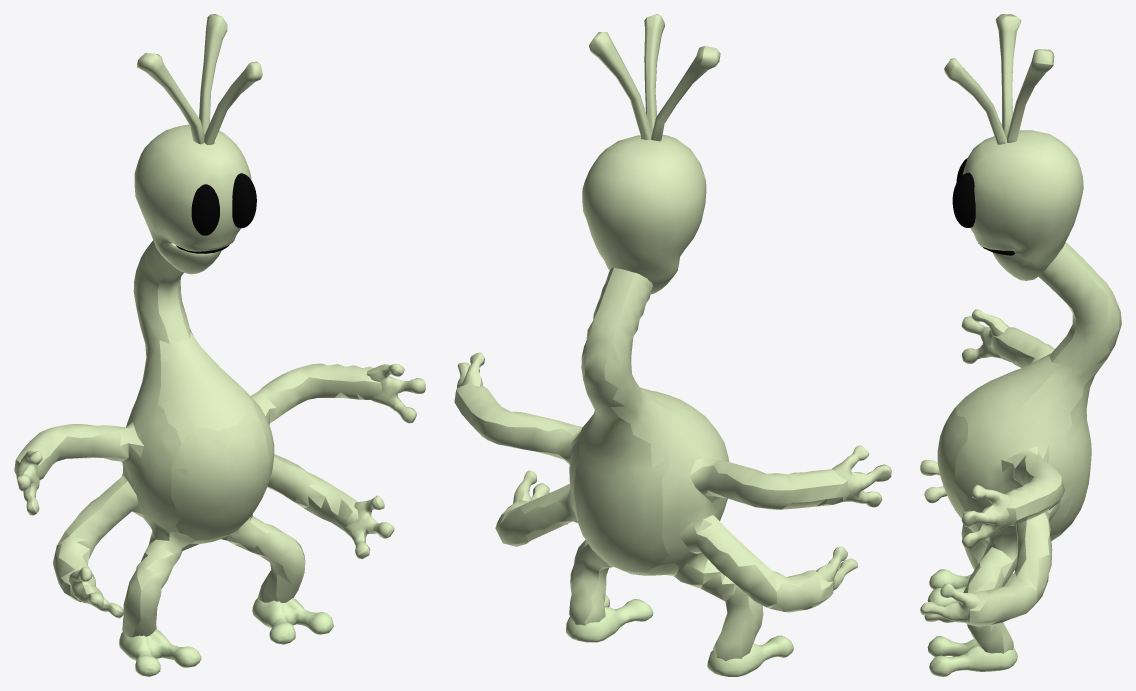
File: lilAlien.obj
3 renders of one model, left to right at view 1: azimuth 30°, elevation 25°; view 2: azimuth 150°, elevation 25°; view 3: azimuth 270°, elevation 25°, orthographic. The views are drawn at different scales.
Parts seen in each view (by area): view 1: lil_alien.gmdl-0, lil_alien.gmdl-1, sphere11.000, sphere11; view 2: lil_alien.gmdl-0, lil_alien.gmdl-1; view 3: lil_alien.gmdl-0, lil_alien.gmdl-1, sphere11.
Part boxes in pixels (x1,y1,x2,y2): lil_alien.gmdl-0: [14, 14, 425, 637]; lil_alien.gmdl-1: [119, 598, 333, 676]; sphere11.000: [191, 184, 219, 235]; sphere11: [232, 173, 256, 228]; lil_alien.gmdl-0: [454, 14, 891, 660]; lil_alien.gmdl-1: [566, 594, 793, 676]; lil_alien.gmdl-0: [920, 14, 1121, 653]; lil_alien.gmdl-1: [927, 569, 1017, 676]; sphere11: [952, 172, 975, 227].
Bounding box in the file's own units: 1.29 × 1.8 × 0.5504.
2 materials, 1 textured.
